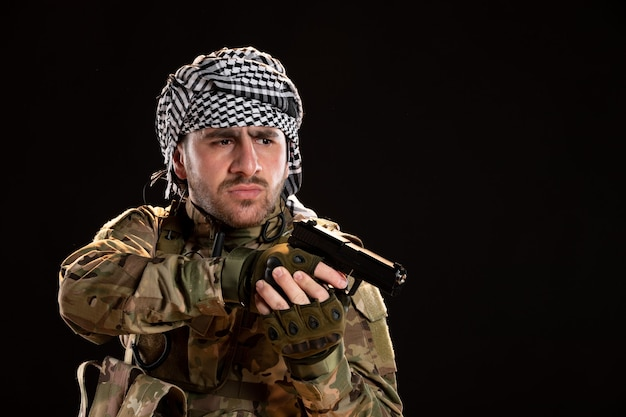gun: (286, 217, 407, 304)
